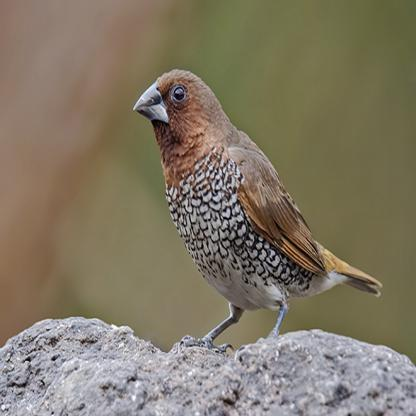Burung: (132, 69, 382, 352)
